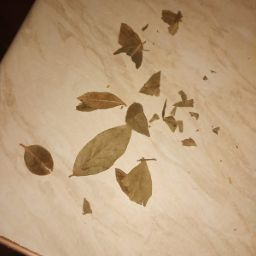Bay leaves: (16, 5, 241, 247), (69, 120, 131, 185), (157, 90, 225, 148), (147, 101, 206, 159), (12, 130, 60, 191), (105, 17, 159, 71), (116, 157, 163, 214), (62, 82, 138, 117), (113, 98, 158, 142), (152, 7, 194, 40), (137, 69, 167, 100), (76, 195, 97, 229), (196, 64, 224, 85)
